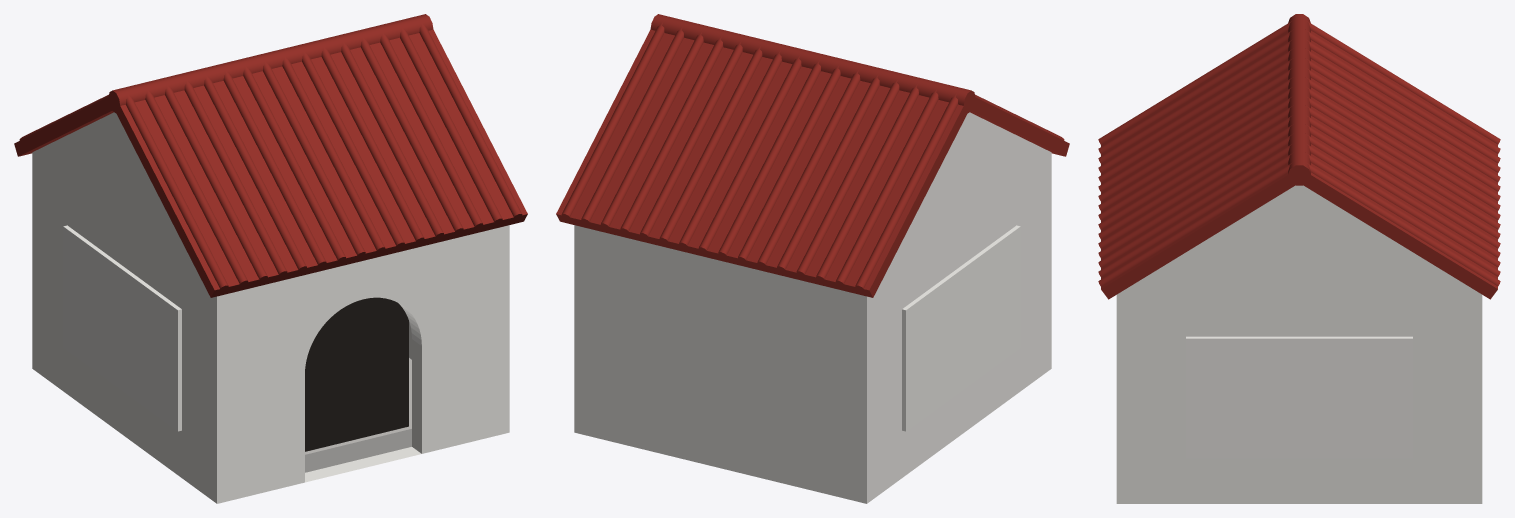
Rendered from DOGHOME.glb.
3 views of the same model, side by side, from view 1: azimuth 30°, elevation 25°; view 2: azimuth 150°, elevation 25°; view 3: azimuth 270°, elevation 25° (orthographic).
Parts seen in each view (by area): view 1: wall-front, roof-back, wall-left, panel-left, doorway, gable-0, ridge, wall-right, floor, wall-back, roof-back-rib-2, roof-back-rib-1 (+15 smaller); view 2: wall-back, roof-front, wall-left, panel-left, gable-0, ridge, roof-front-rib-2, roof-front-rib-1, roof-front-rib-0, roof-front-rib-4, roof-front-rib-6, roof-front-rib-3 (+12 smaller); view 3: wall-right, panel-right, gable-1, roof-front, roof-back, wall-back, ridge, wall-front, roof-front-rib-4, roof-back-rib-4, roof-front-rib-1, roof-front-rib-7 (+28 smaller).
Boxes of the visible parts, left/top/right/bottom form: wall-front: left=207, top=225, right=509, bottom=503; roof-back: left=113, top=29, right=527, bottom=297; wall-left: left=33, top=159, right=234, bottom=503; panel-left: left=63, top=225, right=181, bottom=431; doorway: left=305, top=297, right=408, bottom=451; gable-0: left=33, top=112, right=197, bottom=272; ridge: left=108, top=14, right=433, bottom=113; wall-right: left=409, top=225, right=509, bottom=433; floor: left=305, top=358, right=411, bottom=472; wall-back: left=32, top=152, right=42, bottom=375; roof-back-rib-2: left=165, top=83, right=267, bottom=281; roof-back-rib-1: left=145, top=89, right=248, bottom=286; wall-back: left=574, top=225, right=876, bottom=503; roof-front: left=556, top=29, right=968, bottom=297; wall-left: left=849, top=152, right=1051, bottom=502; panel-left: left=902, top=225, right=1020, bottom=431; gable-0: left=886, top=112, right=1050, bottom=272; ridge: left=650, top=14, right=975, bottom=113; roof-front-rib-2: left=816, top=83, right=918, bottom=281; roof-front-rib-1: left=835, top=89, right=938, bottom=286; roof-front-rib-0: left=855, top=93, right=958, bottom=291; roof-front-rib-4: left=777, top=74, right=879, bottom=271; roof-front-rib-6: left=738, top=65, right=840, bottom=262; roof-front-rib-3: left=796, top=79, right=899, bottom=276; wall-right: left=1116, top=289, right=1481, bottom=503; panel-right: left=1186, top=336, right=1412, bottom=458; gable-1: left=1125, top=185, right=1473, bottom=289; roof-front: left=1297, top=30, right=1497, bottom=299; roof-back: left=1101, top=30, right=1302, bottom=299; wall-back: left=1462, top=289, right=1482, bottom=503; ridge: left=1287, top=14, right=1311, bottom=185; wall-front: left=1116, top=290, right=1136, bottom=503; roof-front-rib-4: left=1305, top=58, right=1500, bottom=182; roof-back-rib-4: left=1098, top=58, right=1293, bottom=182; roof-front-rib-1: left=1306, top=30, right=1500, bottom=153; roof-front-rib-7: left=1306, top=87, right=1500, bottom=210.
Bounding box in the file's own units: 0.91 × 0.9635 × 1.02.
